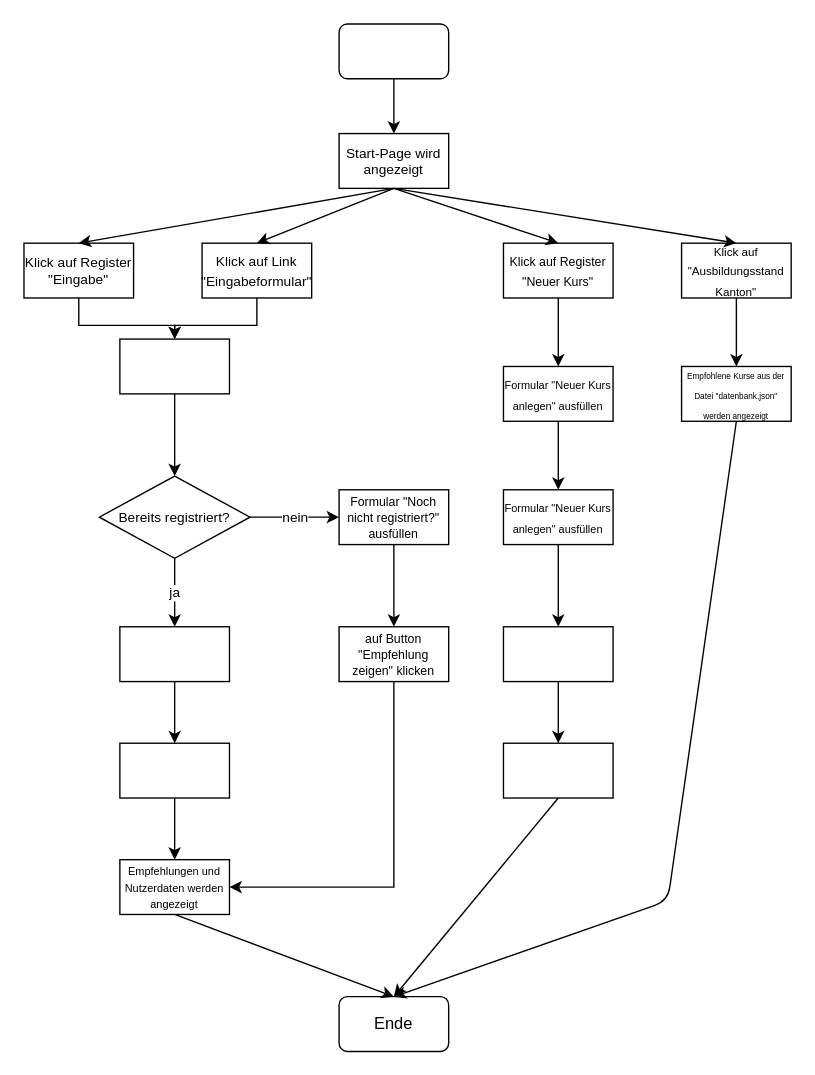
Some shapes in this 815 by 1075 pixel diagram are drawn without their labels. The centre of each missing label's shape, as x and y in pixels:
auf Button "Eingabe speichern" klicken: (174,770)
auf Button "Kurs speichern" klicken: (557,653)
E-Mail Adresse in Formular "Bereits registriert" eingeben: (174,653)
Eingabe-Page wird angezeigt: (174,366)
Kurs wird in der Datei "kursdaten.json" gespeichert: (557,770)
Start: (393,51)
